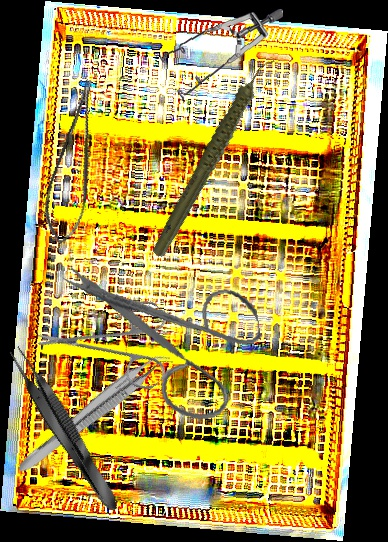Handpiece: (116, 54, 314, 261)
Iris Scissors: (61, 238, 273, 438), (33, 262, 197, 426)
Micro Scissor: (32, 77, 123, 248)
Speculum: (157, 2, 284, 106)
Tissue Forceps: (14, 343, 175, 484), (2, 341, 126, 518)
